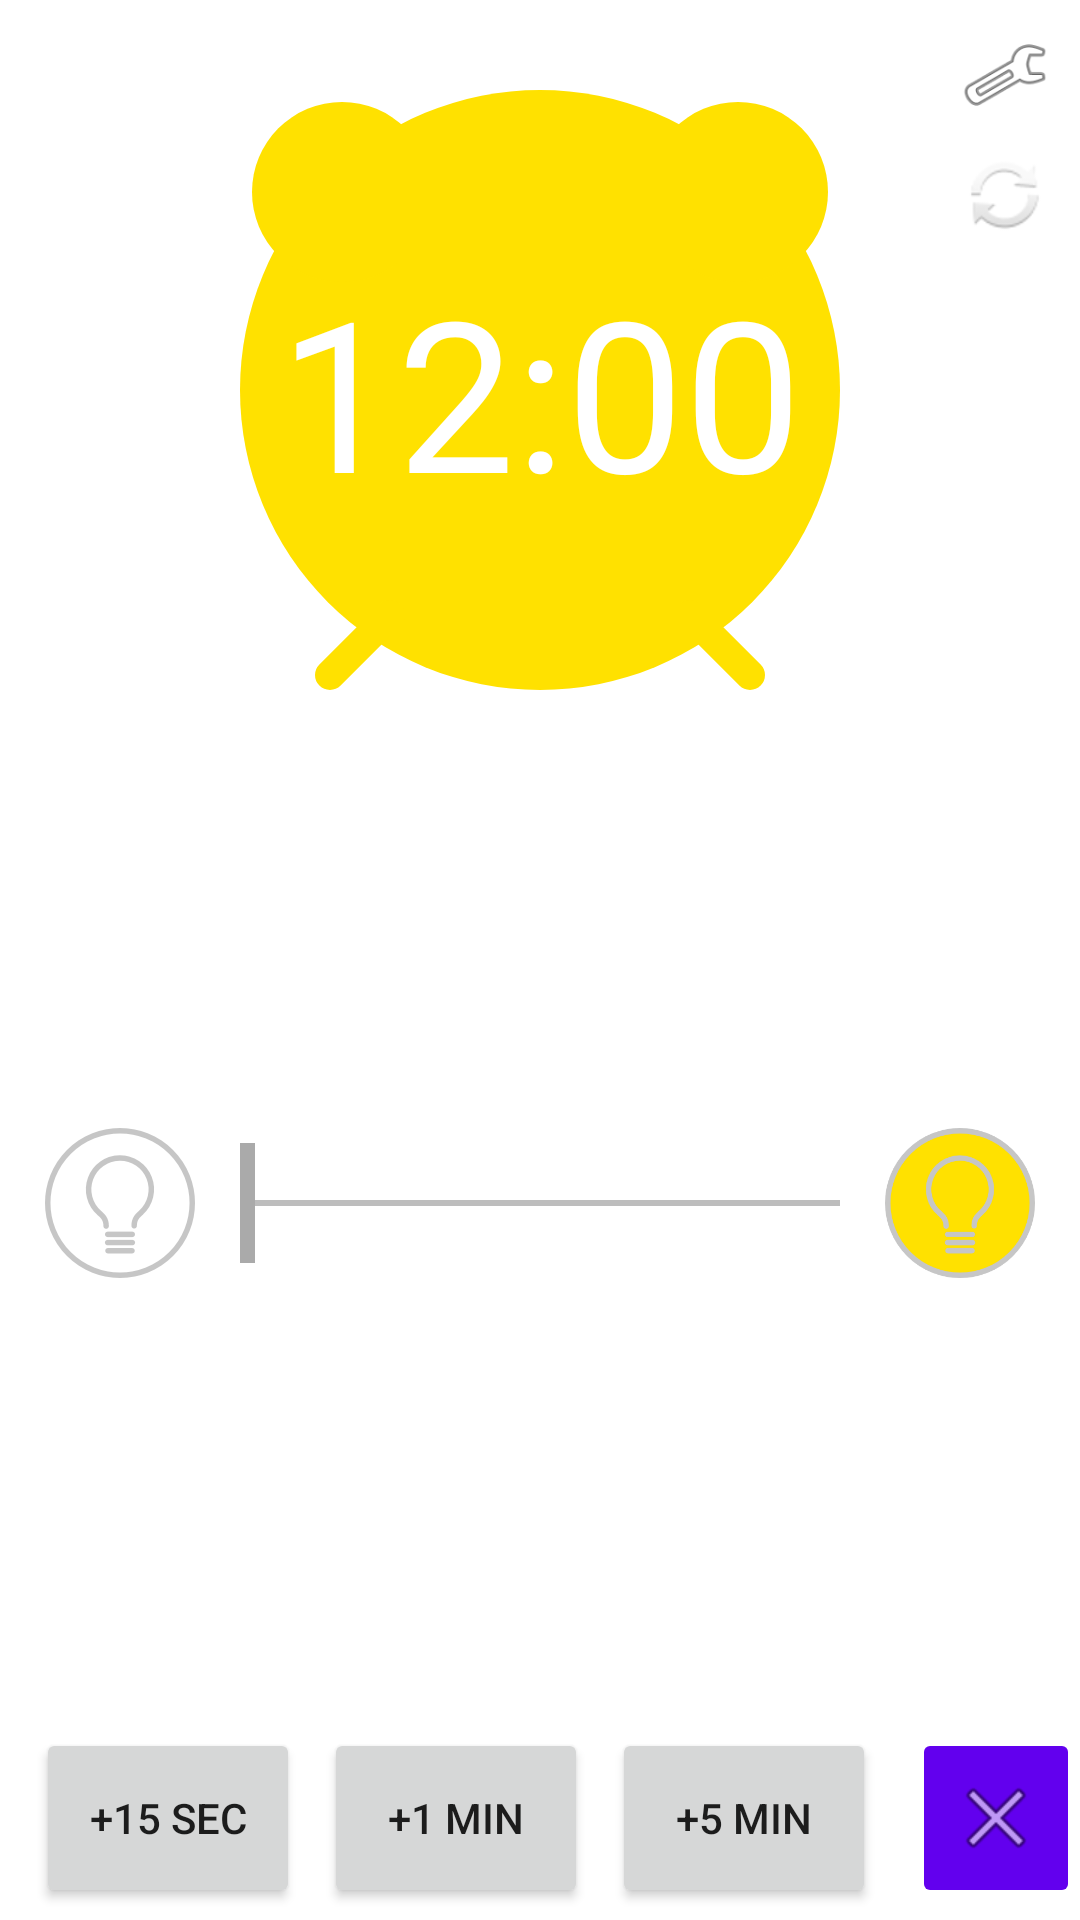

Icons on this 1080w x 1920h Android screen, each with its box as box=[x1, y1, x2, y2]:
close clear cancel: box=[924, 1746, 1068, 1890]
popup sync: box=[971, 169, 1038, 228]
preferences: box=[964, 44, 1046, 106]
switchbuttonoff: box=[45, 1128, 195, 1278]
switchbuttonon: box=[885, 1128, 1035, 1278]
